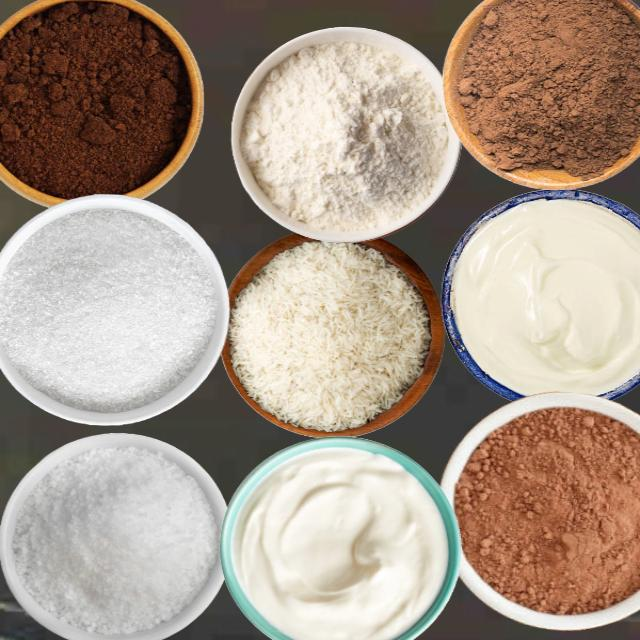Cocoa: (453, 405, 639, 615), (444, 0, 639, 187)
Coffee: (0, 0, 192, 199)
Flour: (240, 39, 449, 233)
Sugar: (0, 206, 217, 412), (11, 444, 217, 635)
